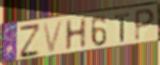6: (90, 15, 108, 49)
H: (64, 16, 88, 53)
P: (133, 8, 157, 44)
T: (113, 11, 131, 43)
V: (41, 20, 65, 56)
Z: (18, 23, 41, 60)
